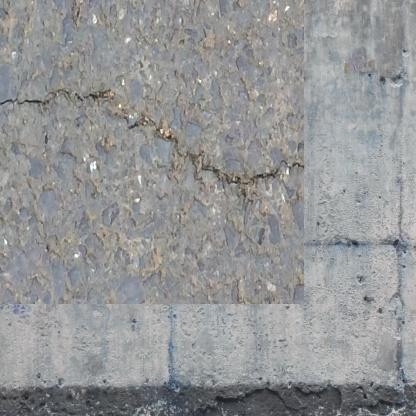Cracks: (135, 107, 281, 190), (0, 78, 105, 107), (116, 109, 131, 122)
